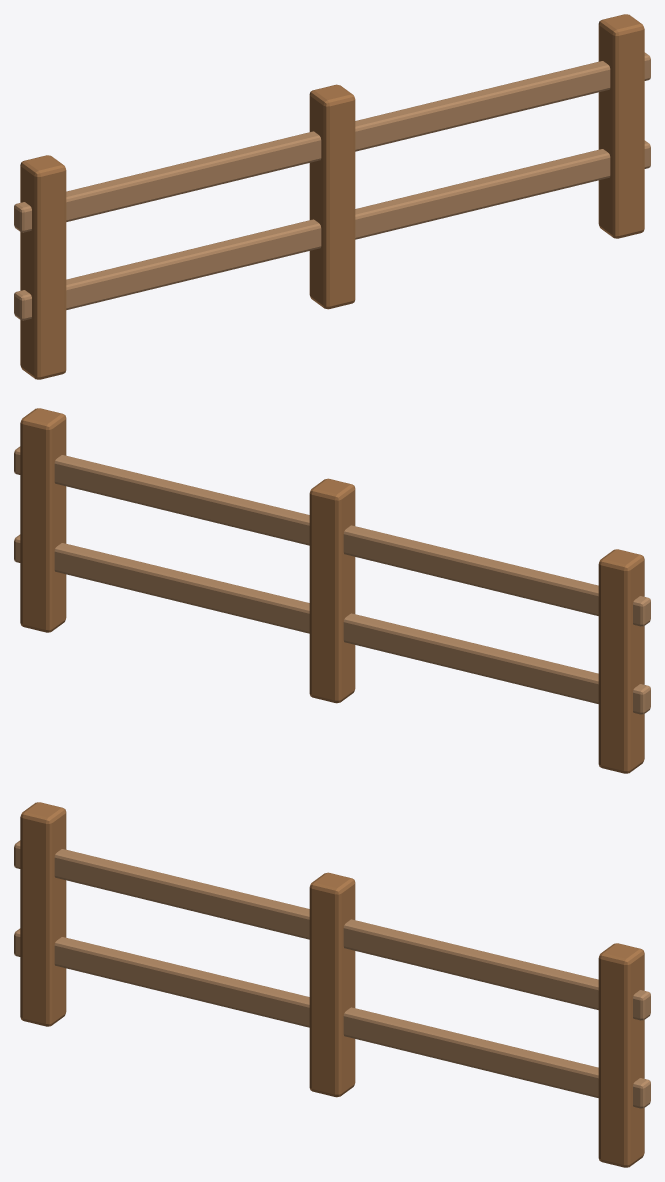
Rendered from Fence.fbx.
The picture shows the model from 3 angles, top to bottom: view 1: azimuth 30°, elevation 25°; view 2: azimuth 150°, elevation 25°; view 3: azimuth 330°, elevation 25°; orthographic projection.
Visible parts, largest first — view 1: Fence; view 2: Fence; view 3: Fence.
Boxes of the visible parts, bbox=[...] form: Fence: bbox=[14, 14, 650, 379]; Fence: bbox=[14, 408, 650, 773]; Fence: bbox=[14, 802, 650, 1167].
Bounding box in the file's own units: 12 × 3.8 × 0.6.
Materials: 1 (1 with a texture image).
